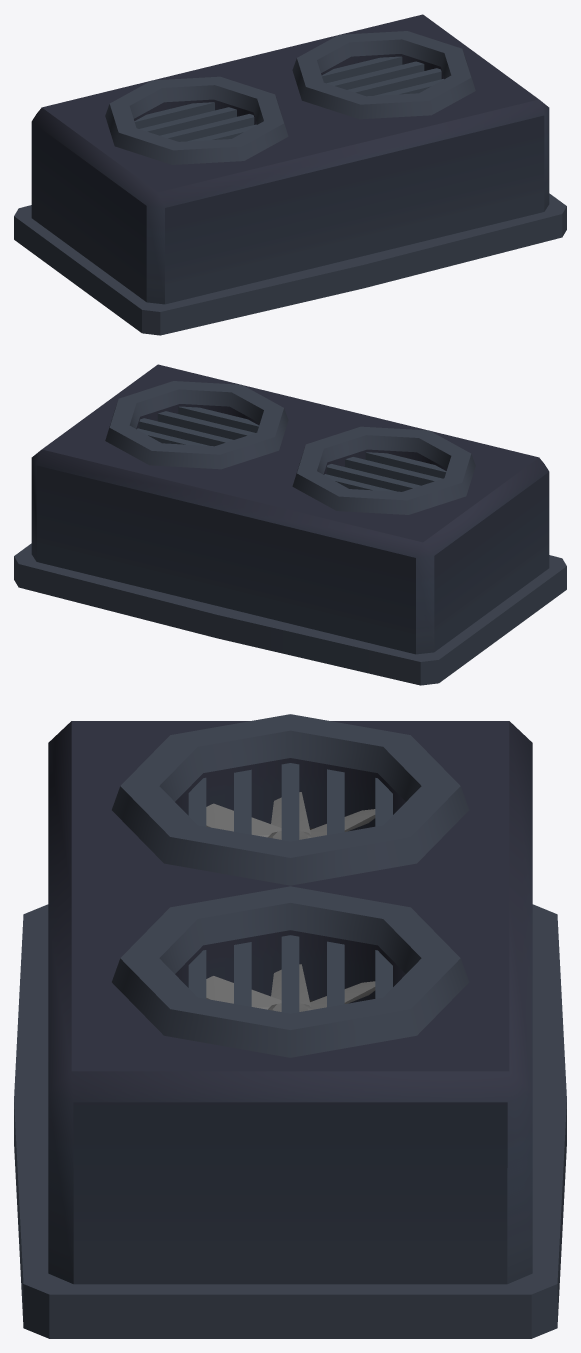
Rendered from Vent_3_B.fbx.
3 renders of one model, top to bottom at view 1: azimuth 30°, elevation 25°; view 2: azimuth 150°, elevation 25°; view 3: azimuth 270°, elevation 25°, orthographic. The views are drawn at different scales.
Visible parts, largest first — view 1: Vent_3_B; view 2: Vent_3_B; view 3: Vent_3_B, TFan_A.001, TFan_A.
Part boxes in pixels (left/top/right/bottom): Vent_3_B: left=14, top=14, right=566, bottom=335; Vent_3_B: left=14, top=364, right=566, bottom=685; Vent_3_B: left=14, top=714, right=566, bottom=1338; TFan_A.001: left=206, top=792, right=375, bottom=839; TFan_A: left=206, top=964, right=375, bottom=1011.
Bounding box in the file's own units: 3.23 × 1.05 × 1.93.
